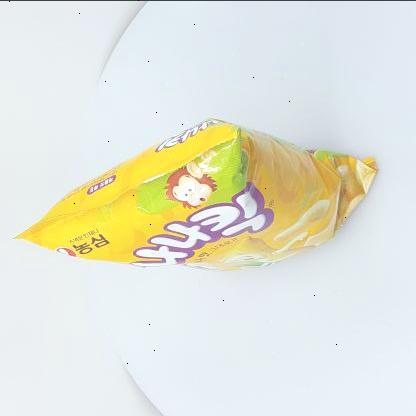Others: (9, 111, 384, 277)
